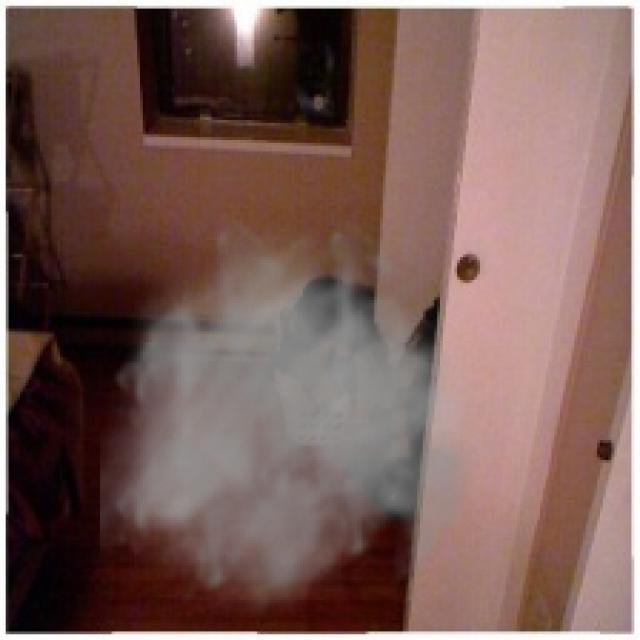Smoke: (100, 214, 506, 623)
